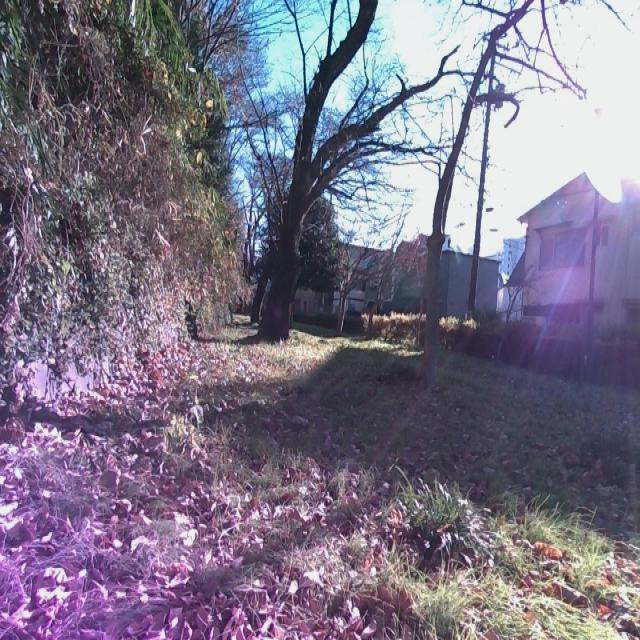artifact: (510, 168, 640, 337), (579, 186, 604, 376)
bush: (0, 35, 228, 374)
tree: (246, 0, 422, 346), (408, 0, 560, 371), (330, 249, 370, 337)
